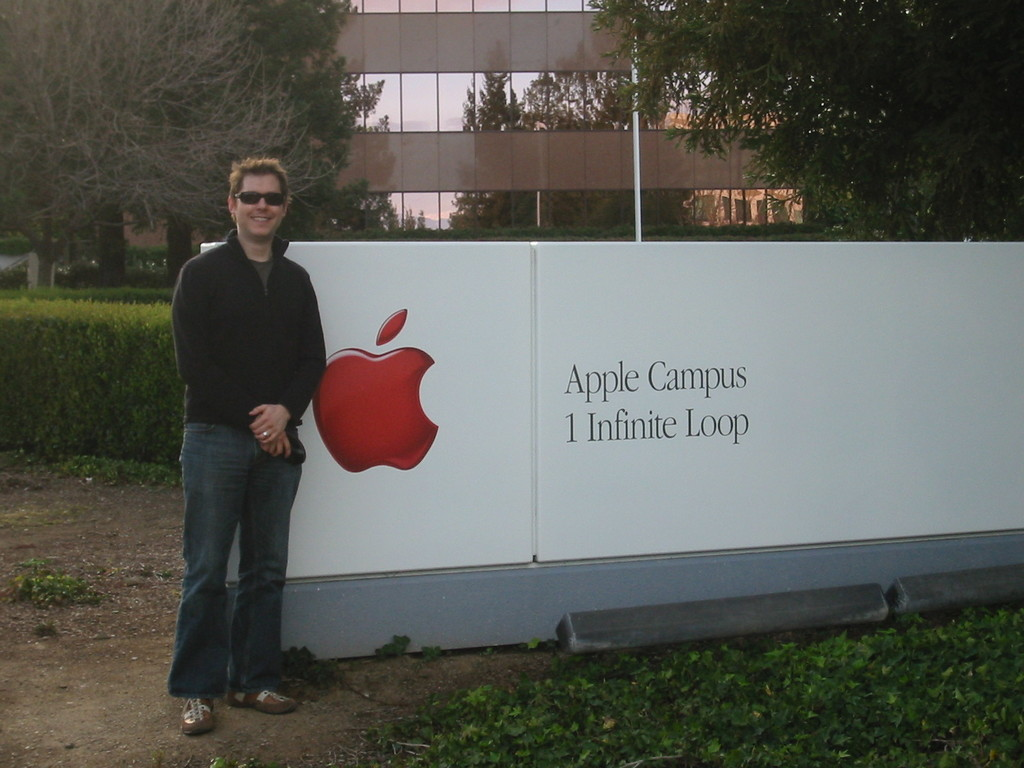Apple: (316, 356, 452, 490)
